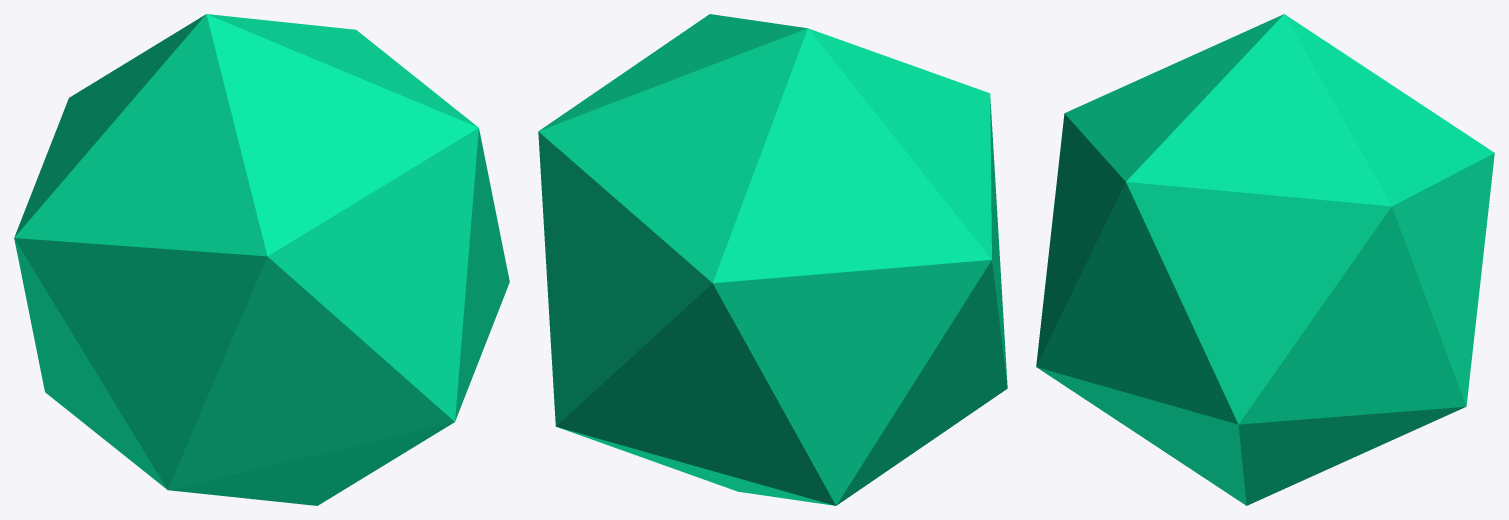
3 renders of one model, left to right at view 1: azimuth 30°, elevation 25°; view 2: azimuth 150°, elevation 25°; view 3: azimuth 270°, elevation 25°, orthographic. The views are drawn at different scales.
Visible parts, largest first — view 1: Icosphere; view 2: Icosphere; view 3: Icosphere.
Boxes of the visible parts, x1=… form: Icosphere: x1=14, y1=14, x2=509, y2=505; Icosphere: x1=538, y1=14, x2=1007, y2=505; Icosphere: x1=1036, y1=14, x2=1494, y2=505.
Size of the model in its own units: 7.96 by 8.14 by 7.49.
